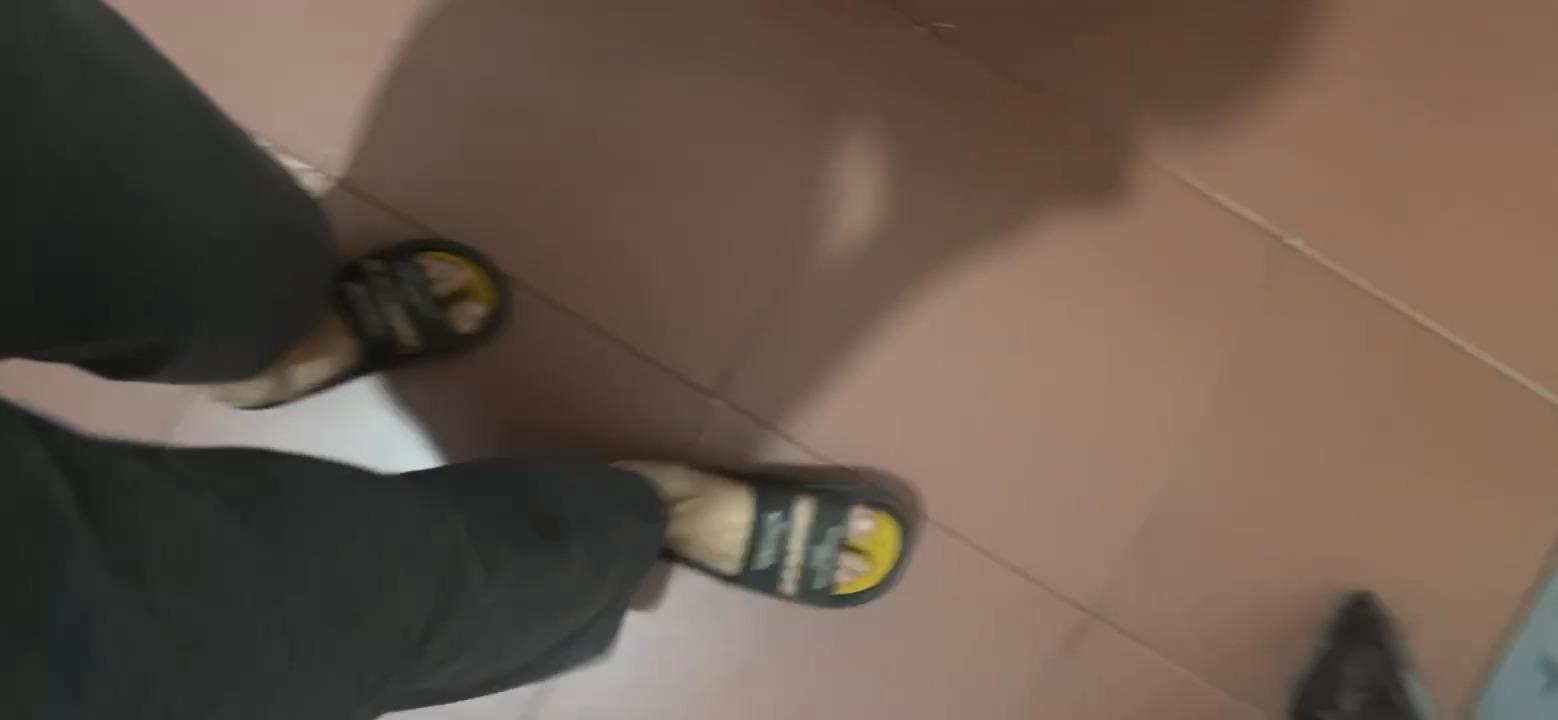no-boot: (617, 437, 918, 612), (219, 237, 513, 409)
